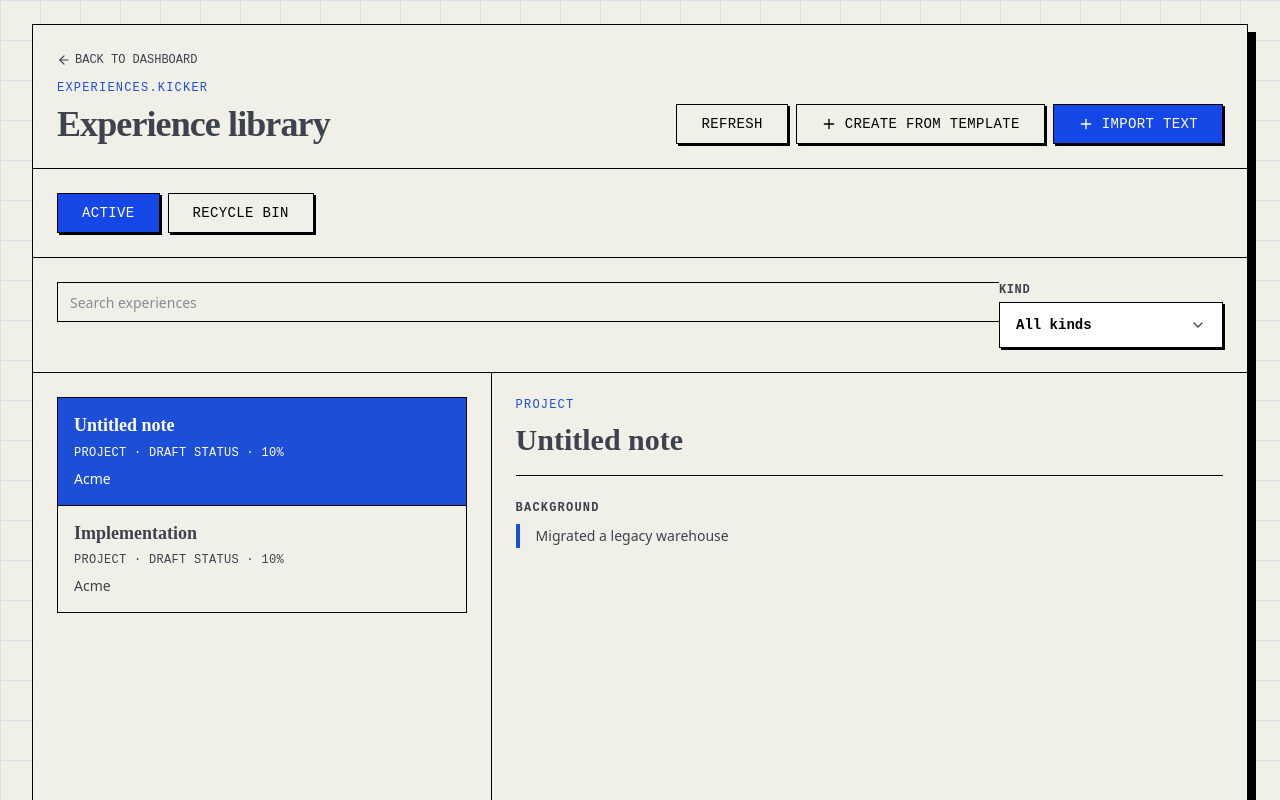
ExperienceLibraryPage › finds experiences from background and technologies
expect the button "Untitled note Project · Draft status · 10% Acme" is shown: met, box top-left (58, 398), bottom-right (466, 504)
Type "legacy warehouse" into the field labelled "Search experiences" at (528, 302), box top-left (57, 282), bottom-right (999, 322)
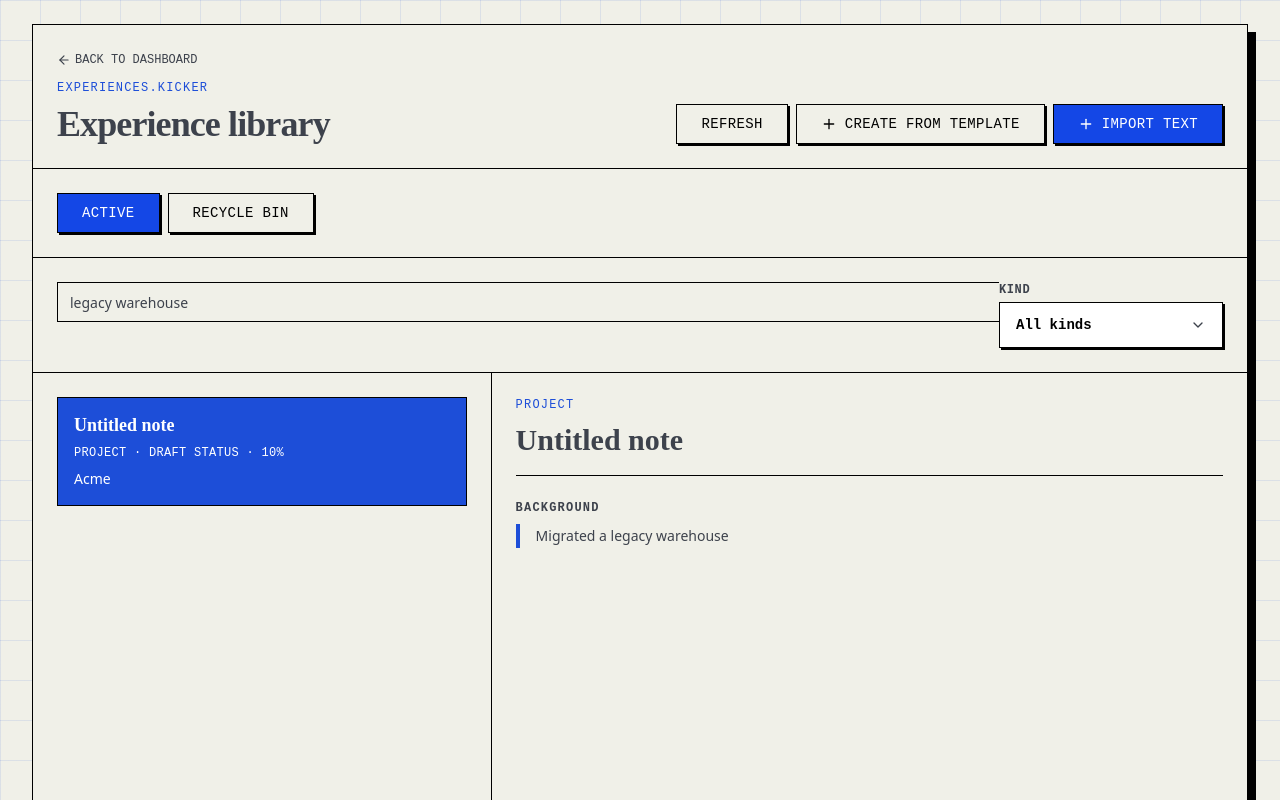
expect the button "Untitled note Project · Draft status · 10% Acme" is shown: met, box top-left (58, 398), bottom-right (466, 504)
Replace the text in the field named "Search experiences" with "rust" at (528, 302), box top-left (57, 282), bottom-right (999, 322)
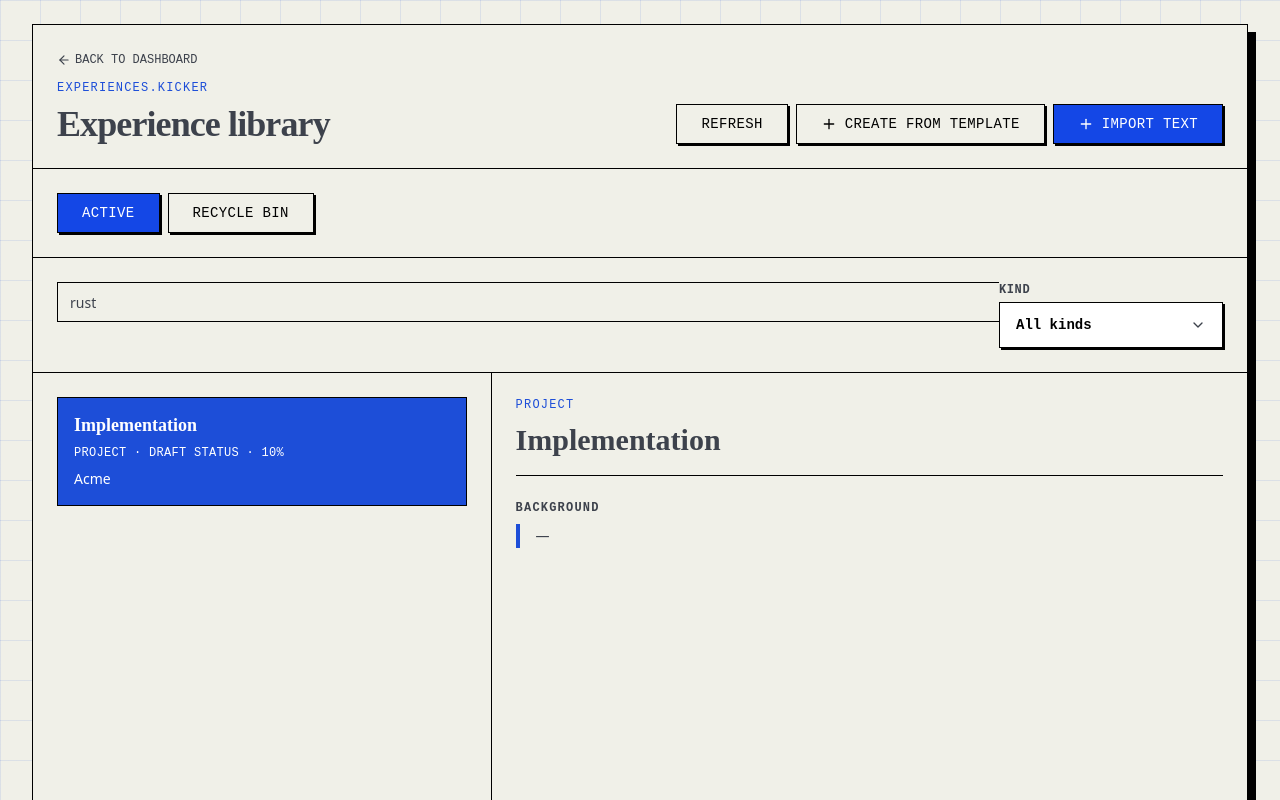
expect the button "Implementation Project · Draft status · 10% Acme" is shown: met, box top-left (58, 398), bottom-right (466, 504)
